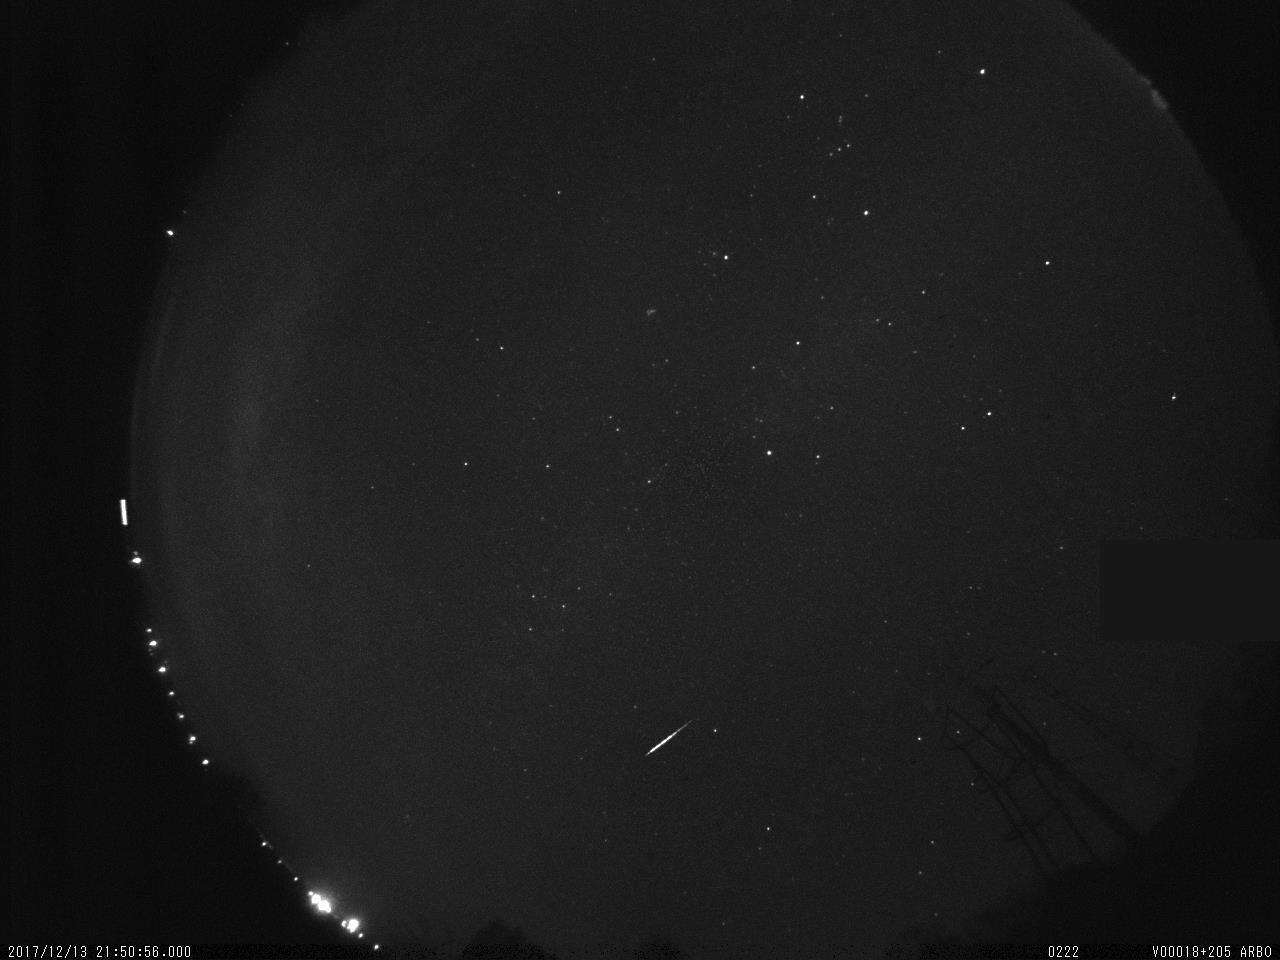meteor: (638, 706, 701, 760)
